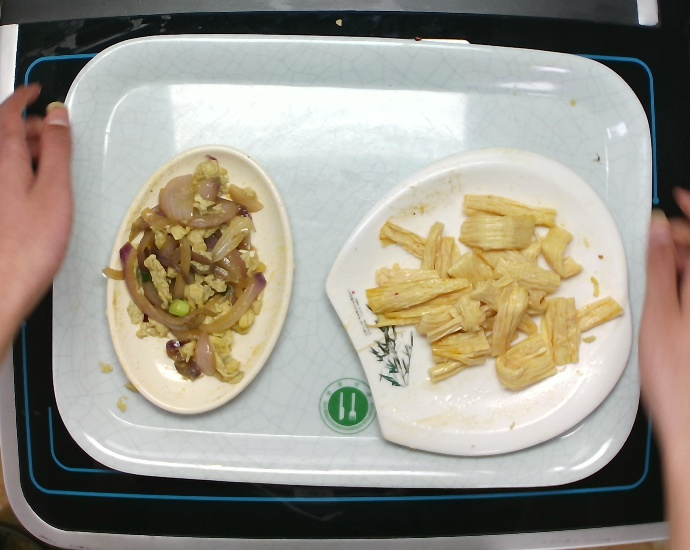JYsf-Mian_Pan: (306, 142, 643, 469)
JYsf-Tuo_Yuan_Wan: (104, 141, 300, 420)
